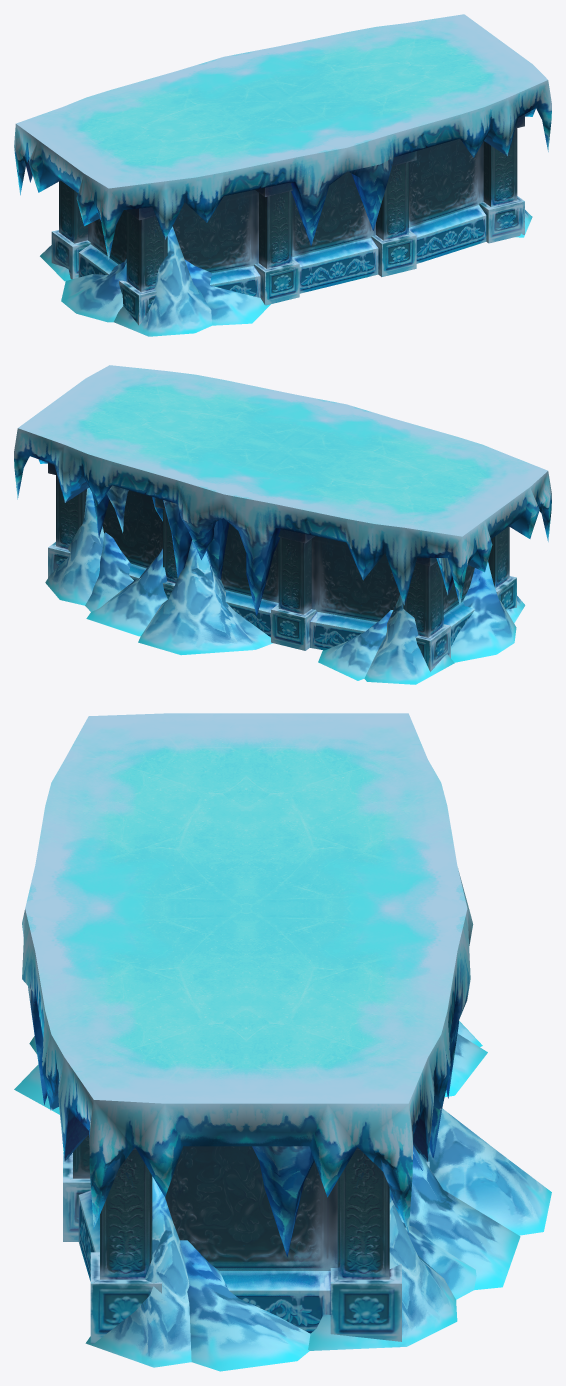
Rendered from BingYingZhong_BingChuang_1.FBX.
3 renders of one model, top to bottom at view 1: azimuth 30°, elevation 25°; view 2: azimuth 150°, elevation 25°; view 3: azimuth 270°, elevation 25°, orthographic. The views are drawn at different scales.
Parts seen in each view (by area): view 1: BingYingZhong_BingChuang_3, BingYingZhong_BingChuang_2; view 2: BingYingZhong_BingChuang_3, BingYingZhong_BingChuang_2; view 3: BingYingZhong_BingChuang_3, BingYingZhong_BingChuang_2.
Part boxes in pixels (x1,y1,x2,y2): BingYingZhong_BingChuang_3: (14, 14, 551, 336); BingYingZhong_BingChuang_2: (51, 114, 524, 325); BingYingZhong_BingChuang_3: (14, 365, 551, 684); BingYingZhong_BingChuang_2: (48, 462, 516, 671); BingYingZhong_BingChuang_3: (14, 713, 551, 1371); BingYingZhong_BingChuang_2: (63, 1134, 429, 1343).
Bounding box in the file's own units: 336 × 104 × 190.
